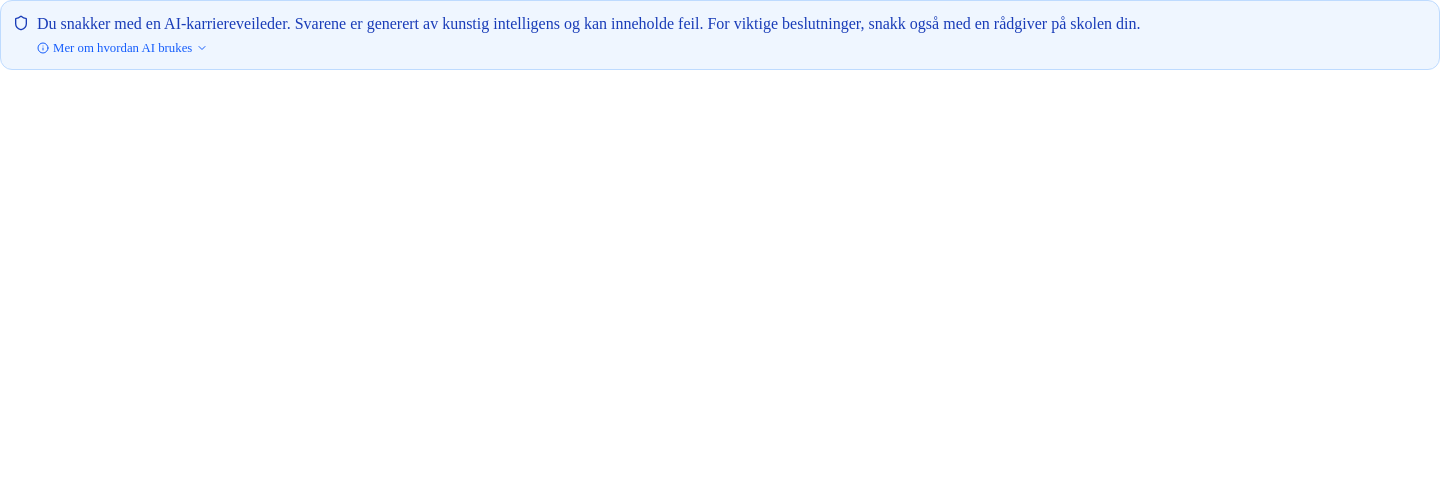
Test: AiDisclosure › viser detaljer når bruker klikker utvidbar seksjon
Click the button "Mer om hvordan AI brukes": (123, 48) x1=37 y1=40 x2=208 y2=57
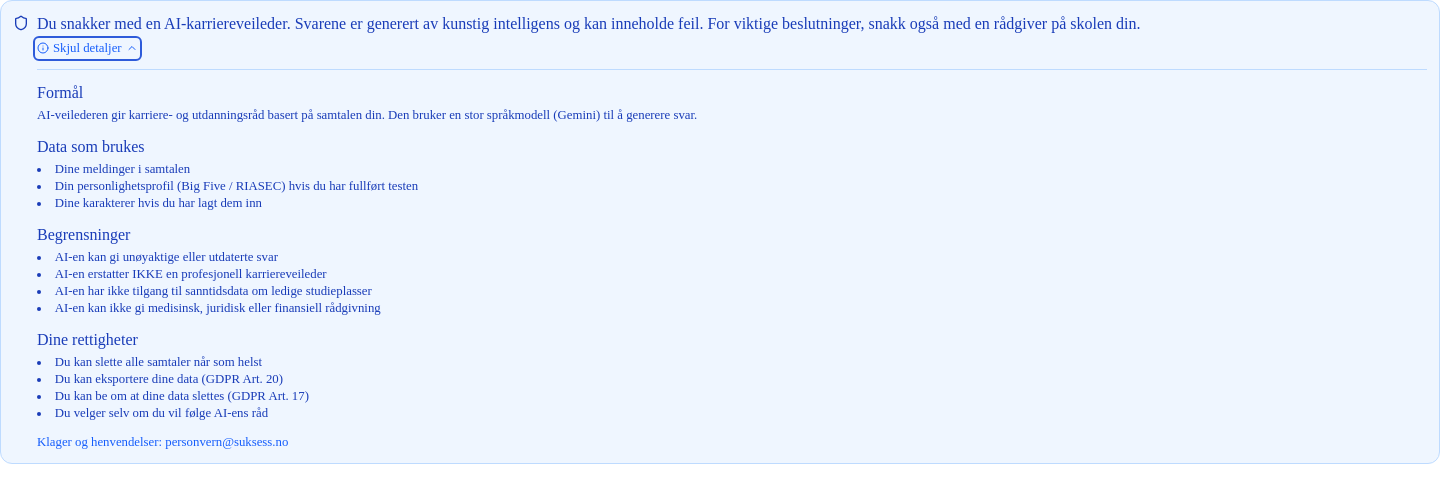
expect the heading "Formål" is shown: met, box x1=37 y1=84 x2=83 y2=101
expect the heading "Begrensninger" is shown: met, box x1=37 y1=226 x2=130 y2=243
expect the heading "Dine rettigheter" is shown: met, box x1=37 y1=331 x2=138 y2=348
